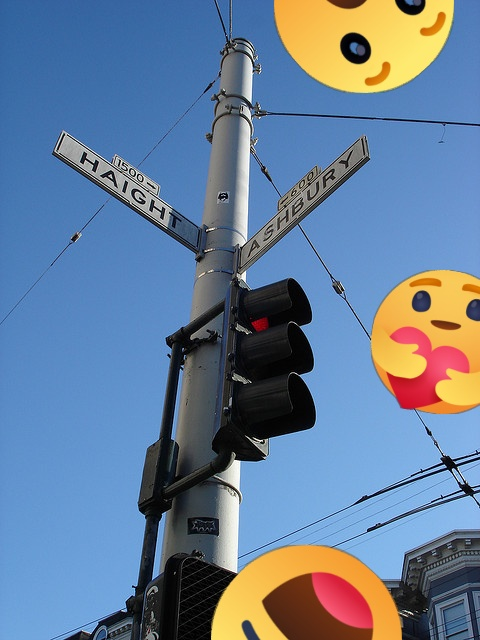care: (371, 270, 480, 414)
haha: (211, 545, 402, 640)
wow: (274, 0, 454, 93)
